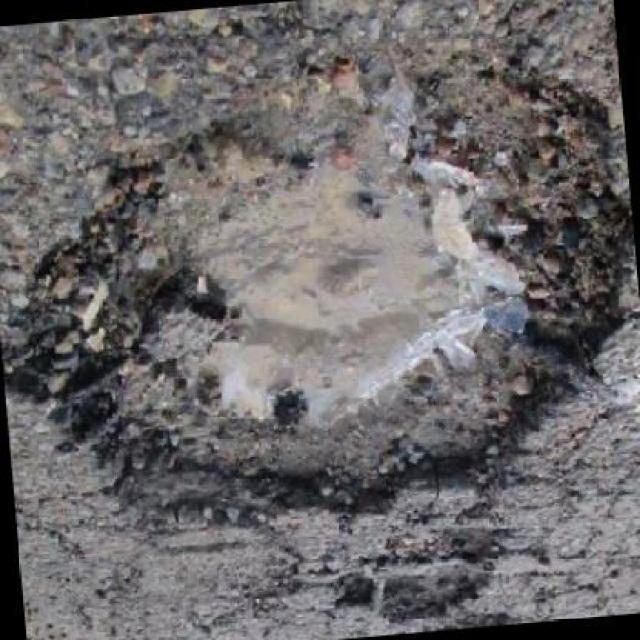pothole: (2, 28, 640, 557), (328, 504, 526, 639)
